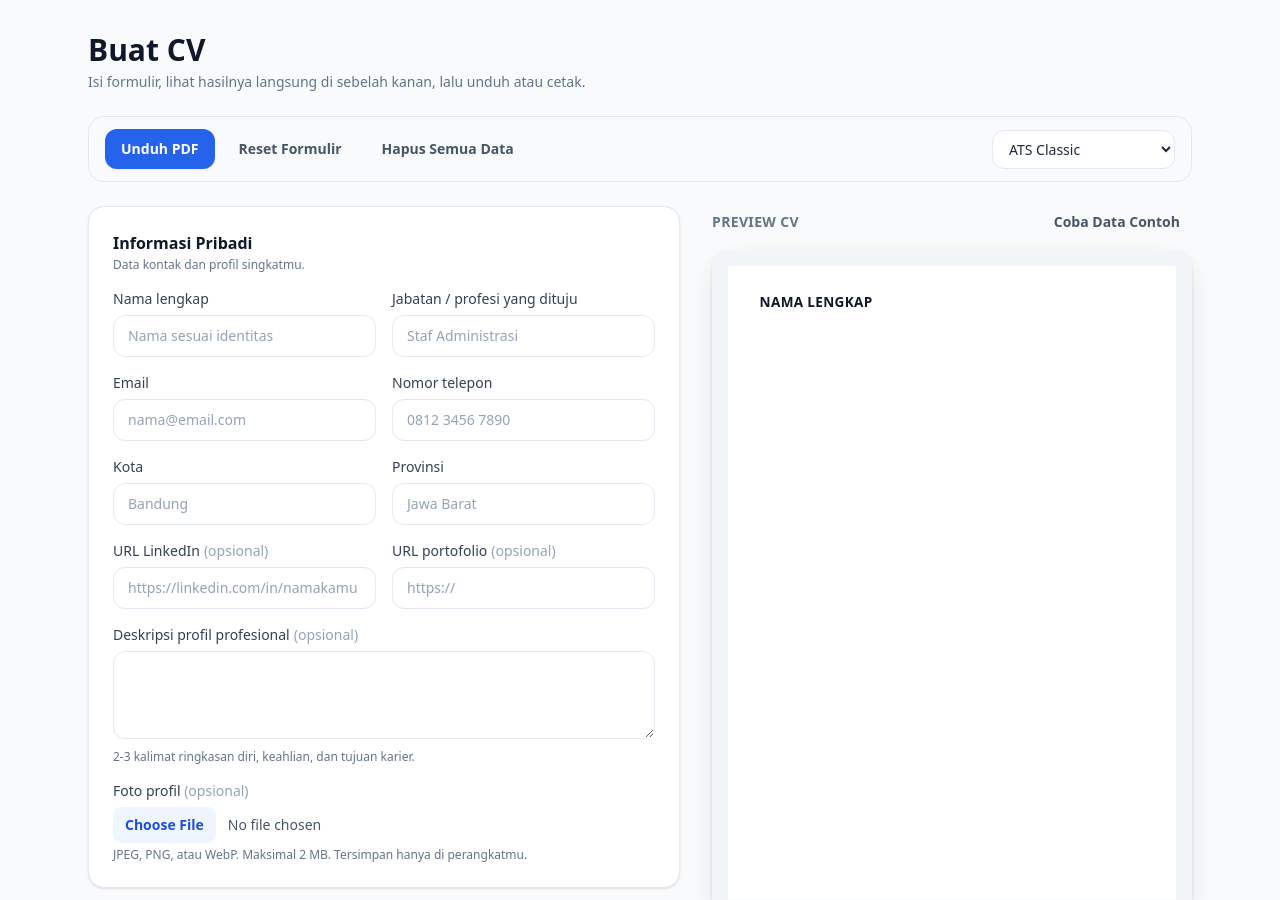
Test: Alur lengkap pembuatan CV (integrasi) › ekspor diblokir saat nama kosong, lalu berhasil setelah nama diisi
Later steps or results of the test are not shown.
Note: Tanpa nama: validasi gagal, PDF TIDAK dibuat
Click the button "Unduh PDF".
click(160, 149)  # box top-left (105, 129), bottom-right (214, 169)
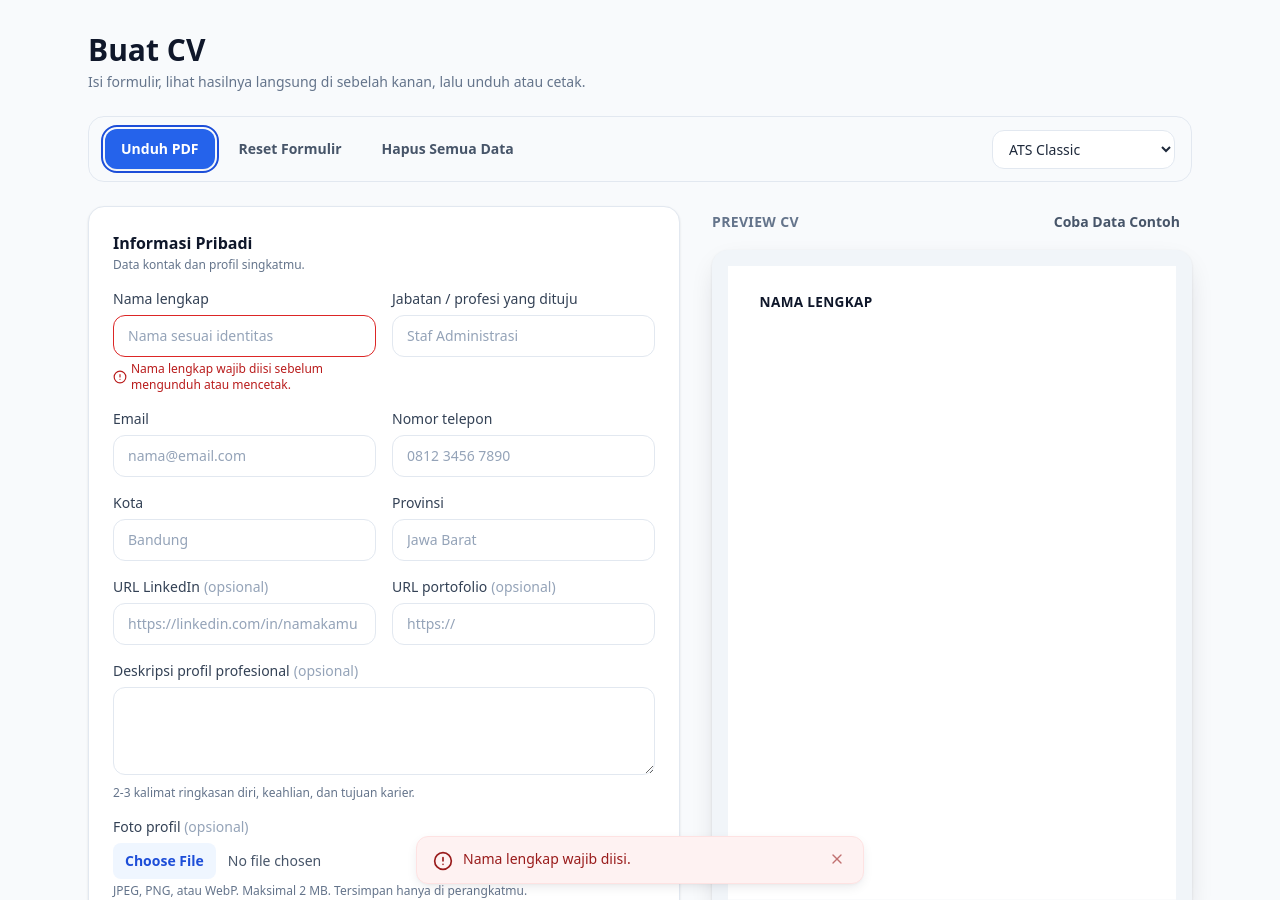
Now the text "Nama lengkap wajib diisi sebelum mengunduh atau mencetak." is shown, box top-left (113, 360), bottom-right (323, 393)
